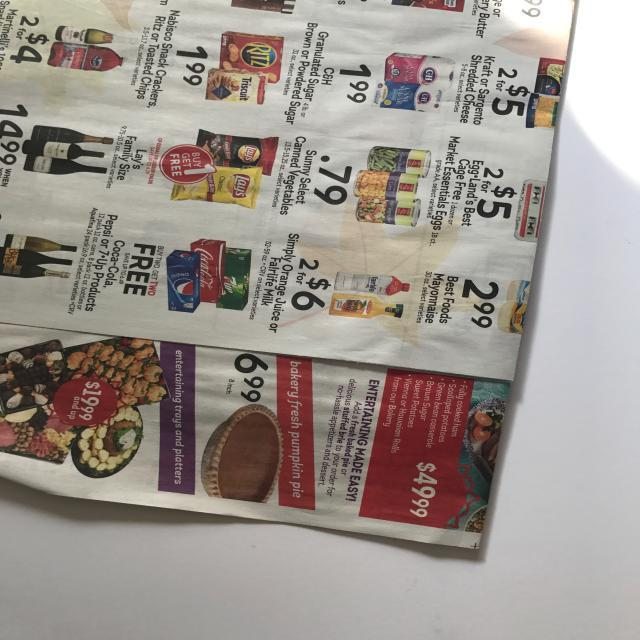paper: (1, 2, 576, 550)
